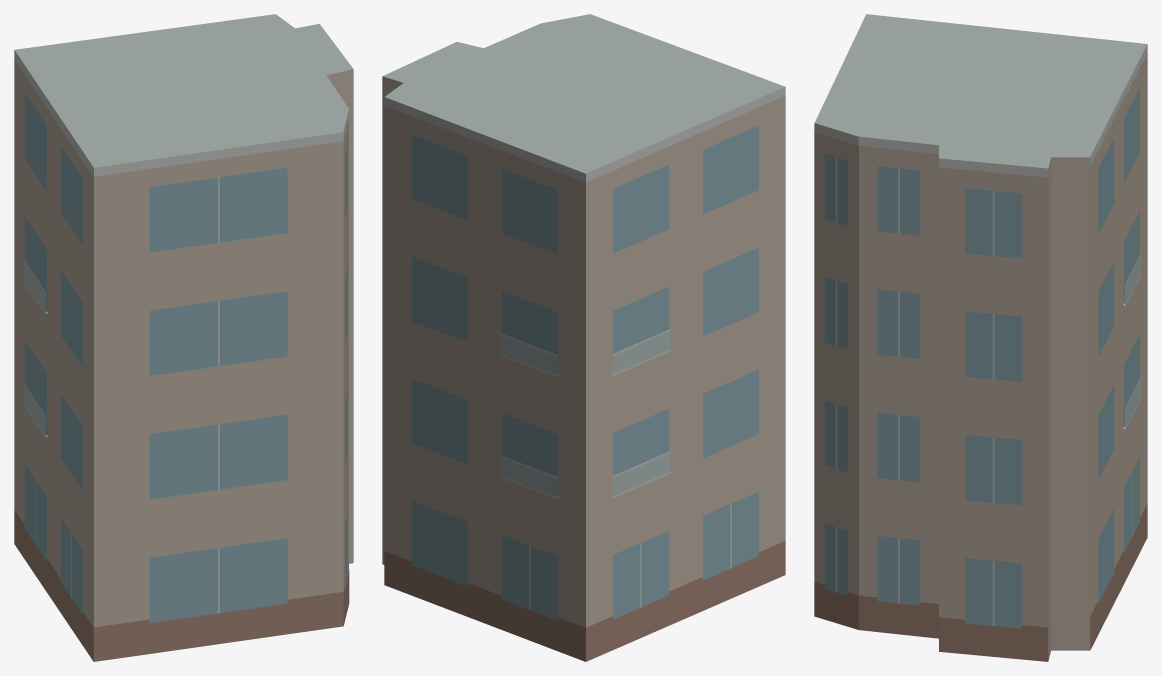
The model's file is survey-upis-32472870.glb.
3 views of the same model, side by side, from view 1: azimuth 30°, elevation 25°; view 2: azimuth 150°, elevation 25°; view 3: azimuth 270°, elevation 25° (orthographic).
Visible parts, largest first — view 1: survey-upis-32472870.tmp; view 2: survey-upis-32472870.tmp; view 3: survey-upis-32472870.tmp.
Boxes of the visible parts, x1,y1,x2,y2 form: survey-upis-32472870.tmp: (14,14,353,661); survey-upis-32472870.tmp: (382,14,785,661); survey-upis-32472870.tmp: (814,14,1147,661).
Size of the model in its own units: 9.01 by 13.4 by 8.21.
